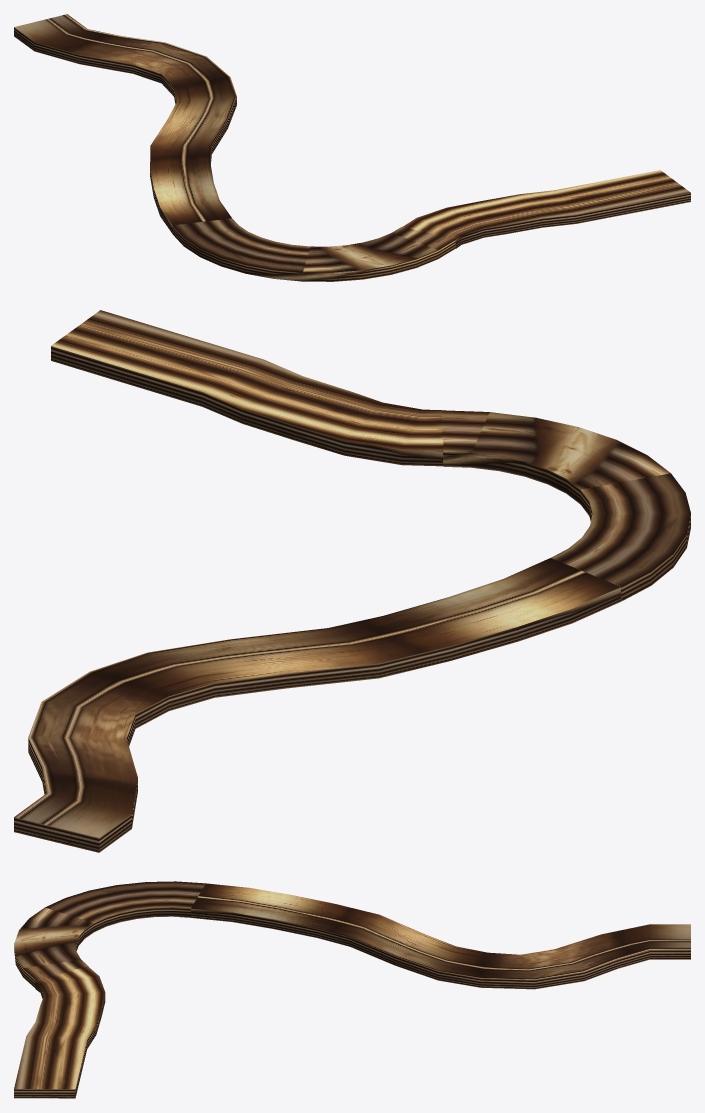
File: U - No Walls 2.obj
3 views of the same model, one above another, from view 1: azimuth 30°, elevation 25°; view 2: azimuth 150°, elevation 25°; view 3: azimuth 270°, elevation 25° (orthographic). The views are drawn at different scales.
Parts seen in each view (by area): view 1: polySurface9; view 2: polySurface9; view 3: polySurface9.
Boxes of the visible parts, x1,y1,x2,y2 form: polySurface9: (14, 14, 690, 281); polySurface9: (14, 310, 690, 852); polySurface9: (14, 881, 690, 1098).
Bounding box in the file's own units: 3354 × 70 × 4619.
